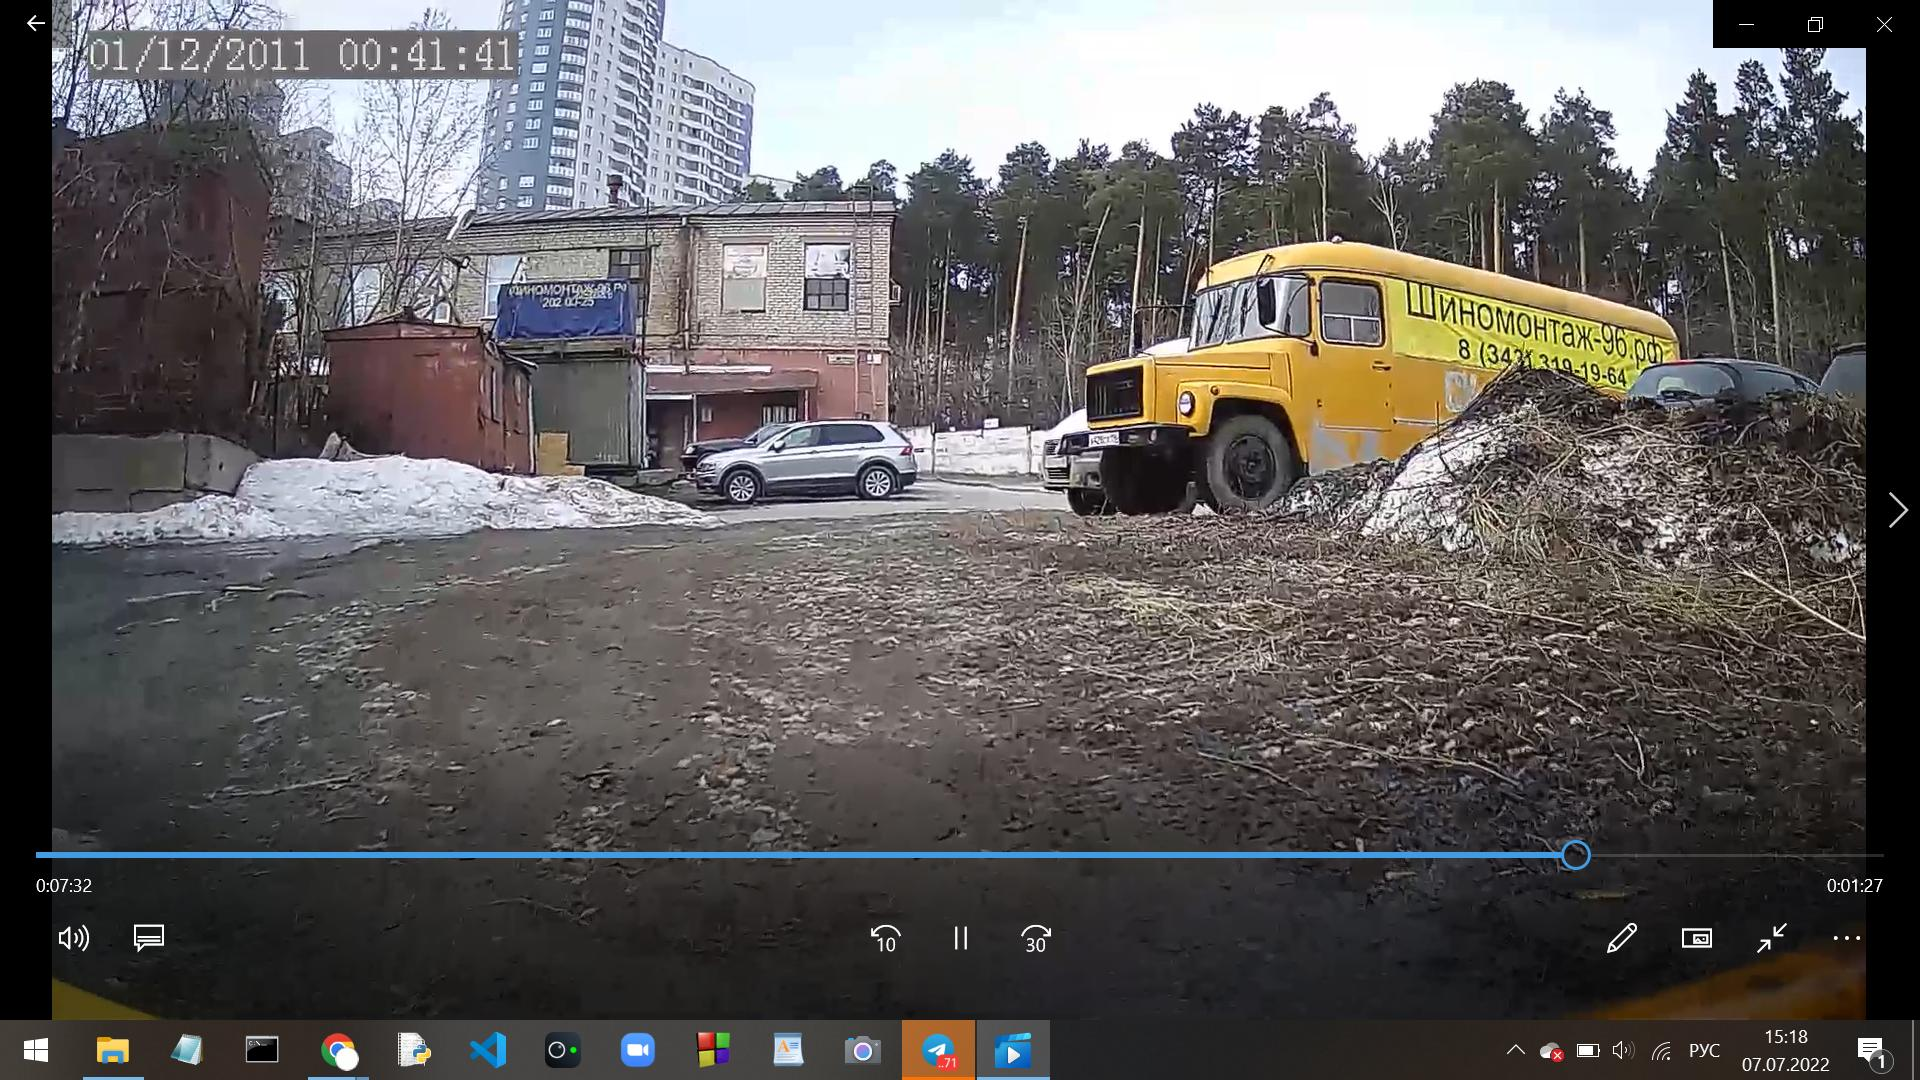plate: (1091, 434, 1119, 446)
